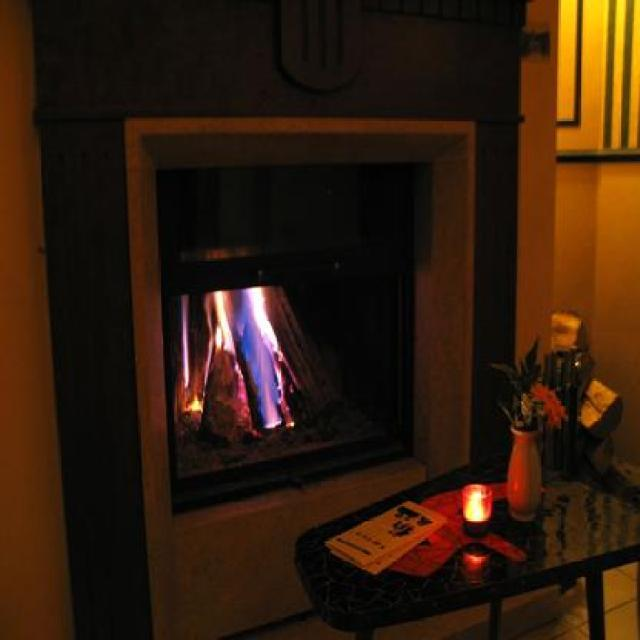Fire: (173, 280, 294, 430), (466, 484, 492, 522)
